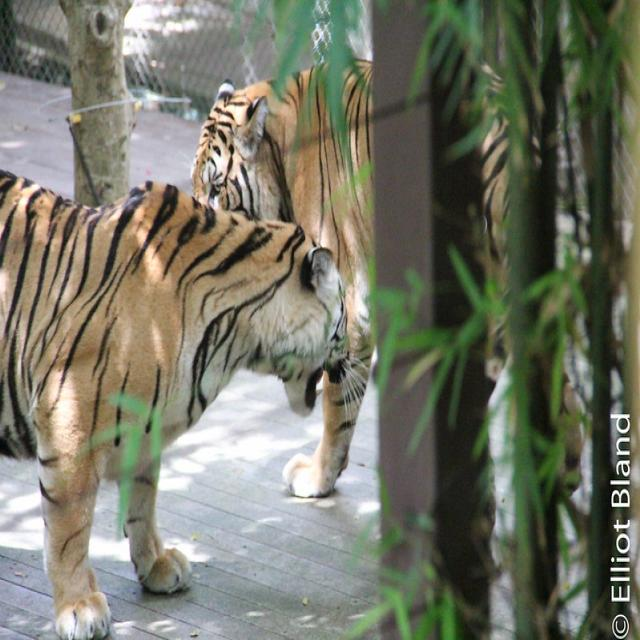Tiger: (0, 154, 354, 634), (186, 47, 570, 486)
